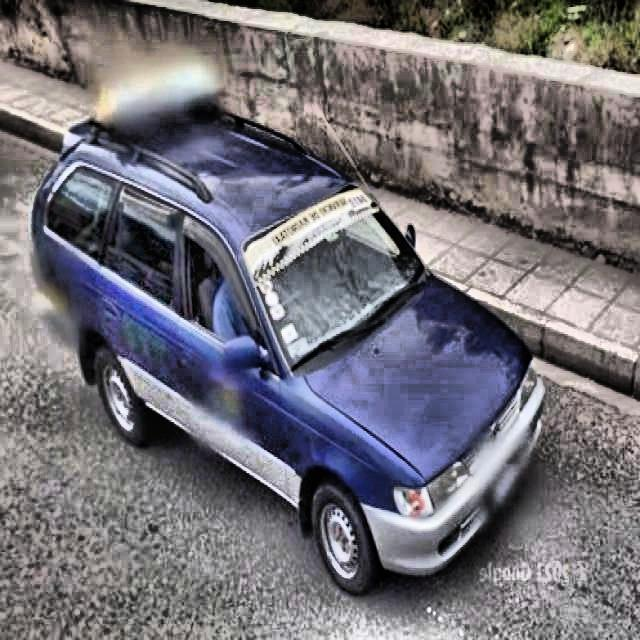carro: (26, 92, 558, 616)
